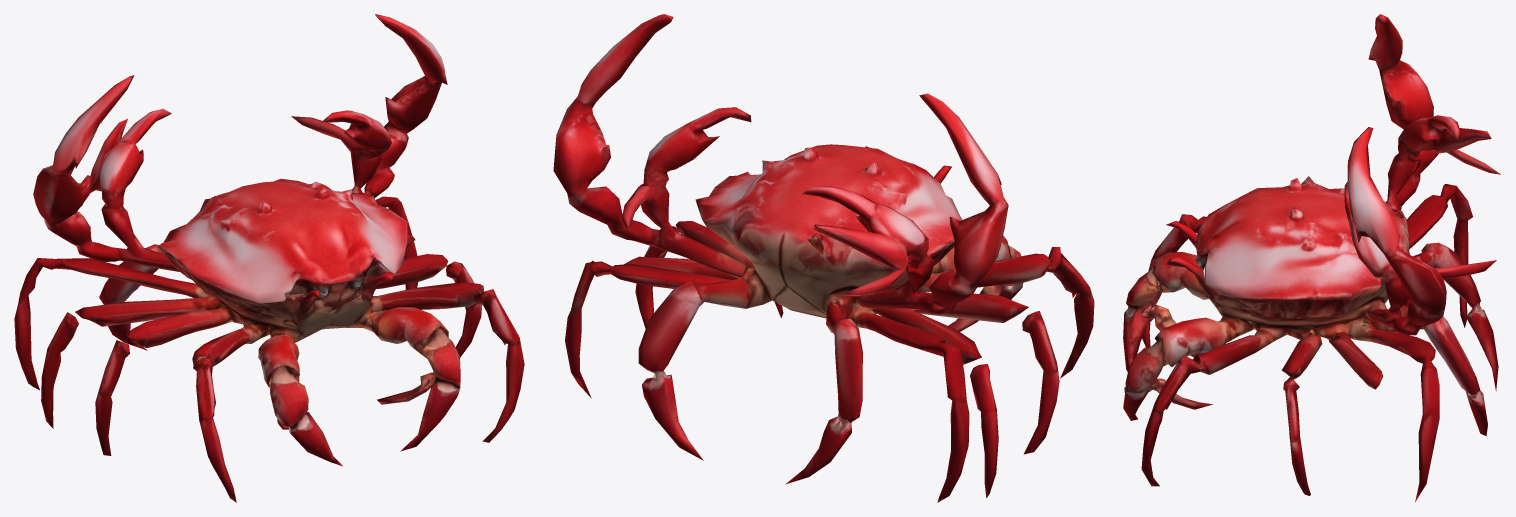
The model's file is crab.glb.
The picture shows the model from 3 angles, left to right: view 1: azimuth 30°, elevation 25°; view 2: azimuth 150°, elevation 25°; view 3: azimuth 270°, elevation 25°; orthographic projection. The views are drawn at different scales.
Parts seen in each view (by area): view 1: geometry_0; view 2: geometry_0; view 3: geometry_0.
Part boxes in pixels (x1,y1,x2,y2): geometry_0: [14, 14, 524, 502]; geometry_0: [553, 14, 1094, 502]; geometry_0: [1123, 14, 1500, 502].
Bounding box in the file's own units: 0.9986 × 0.8508 × 0.8154.
Materials: 1 (1 with a texture image).
